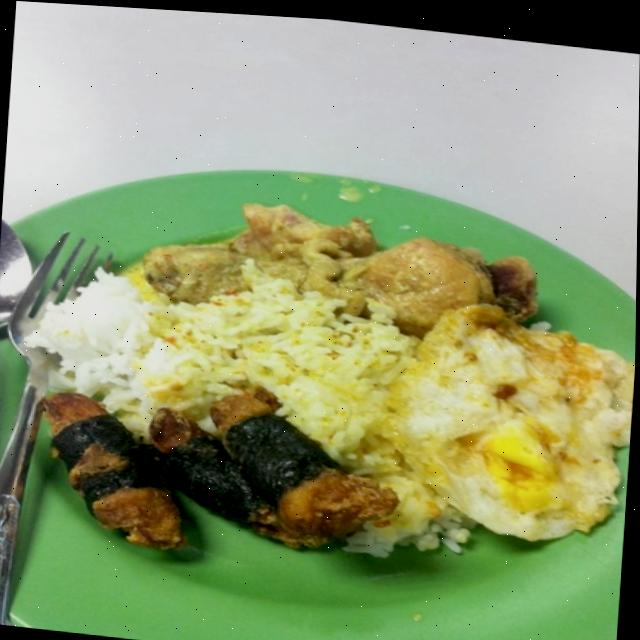米饭主食: (0, 131, 638, 640)
